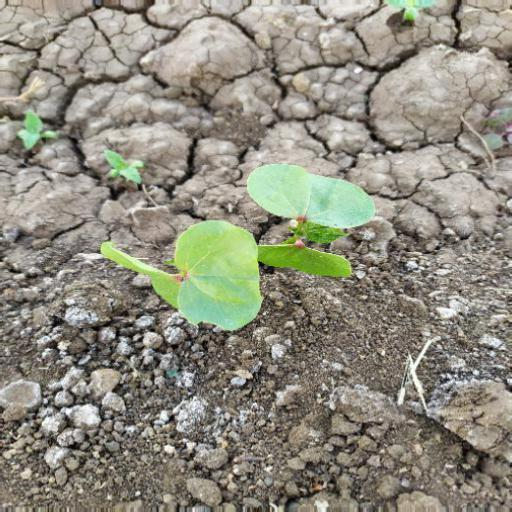weed: (95, 149, 413, 328)
